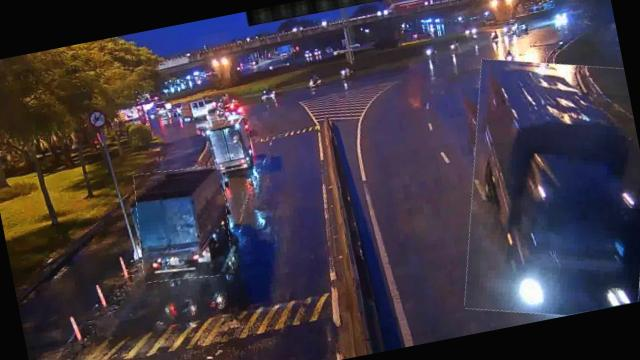Truck: (434, 41, 640, 331), (127, 160, 240, 288), (208, 114, 255, 172)
